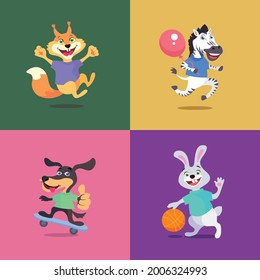animal: (166, 145, 232, 238), (28, 20, 101, 103), (158, 22, 227, 105)
dog: (35, 152, 96, 229)
